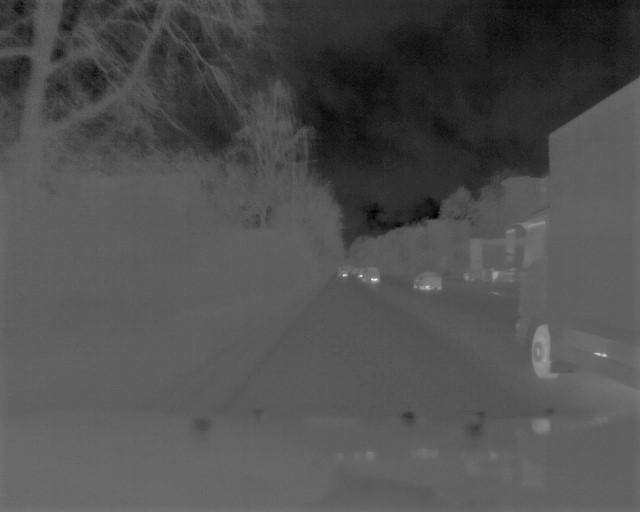car: (508, 205, 640, 396), (410, 270, 443, 290), (356, 265, 380, 282)
